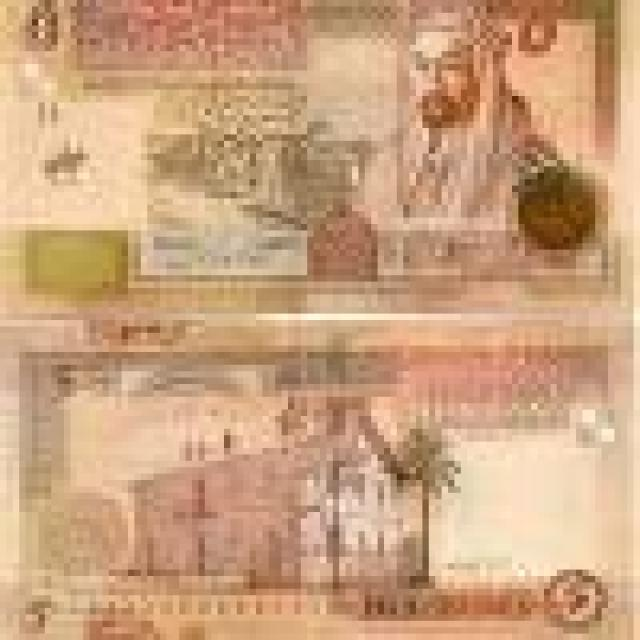5-dinar: (0, 318, 640, 640), (0, 0, 640, 314)
